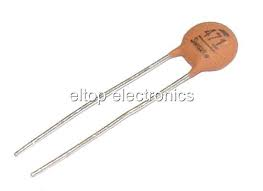ceramic capacitor: (163, 17, 242, 93)
